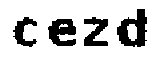c: (11, 15, 43, 49)
d: (115, 8, 152, 51)
e: (47, 16, 78, 50)
z: (83, 16, 110, 48)
